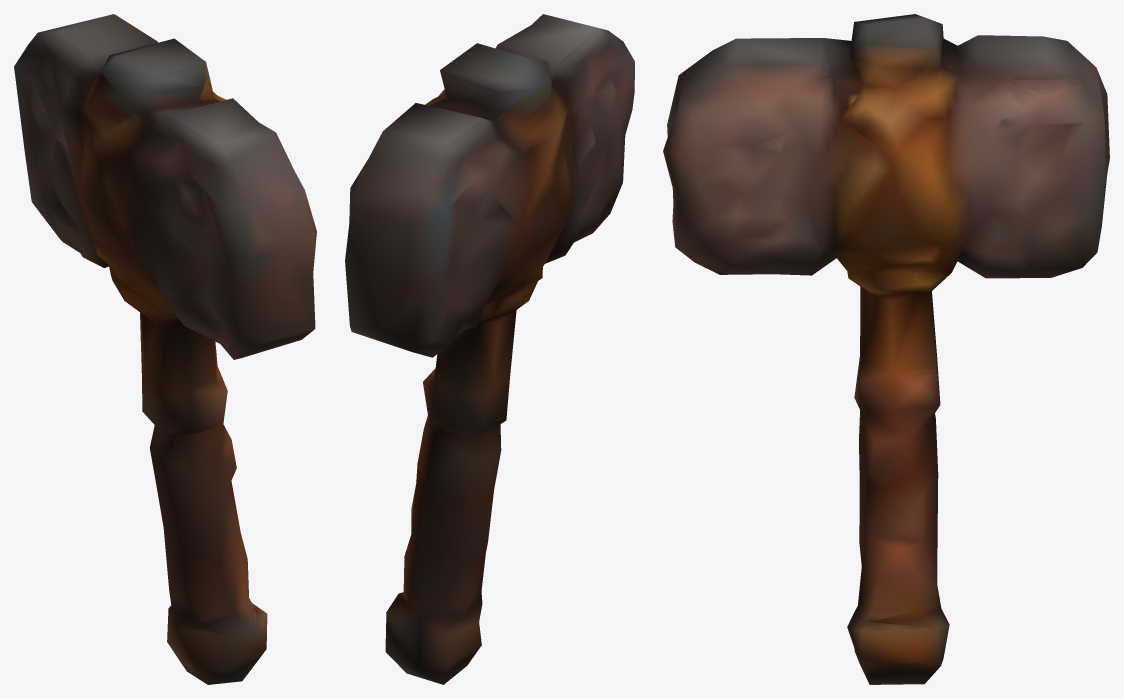
Rendered from mace_2h_stone.glb.
3 renders of one model, left to right at view 1: azimuth 30°, elevation 25°; view 2: azimuth 150°, elevation 25°; view 3: azimuth 270°, elevation 25°, orthographic.
Parts seen in each view (by area): view 1: model; view 2: model; view 3: model.
Boxes of the visible parts, x1,y1,x2,y2 form: model: (14, 14, 316, 684); model: (345, 14, 634, 684); model: (663, 14, 1109, 684).
Size of the model in its own units: 0.3675 by 1.39 by 0.9068.
1 material, 1 textured.
